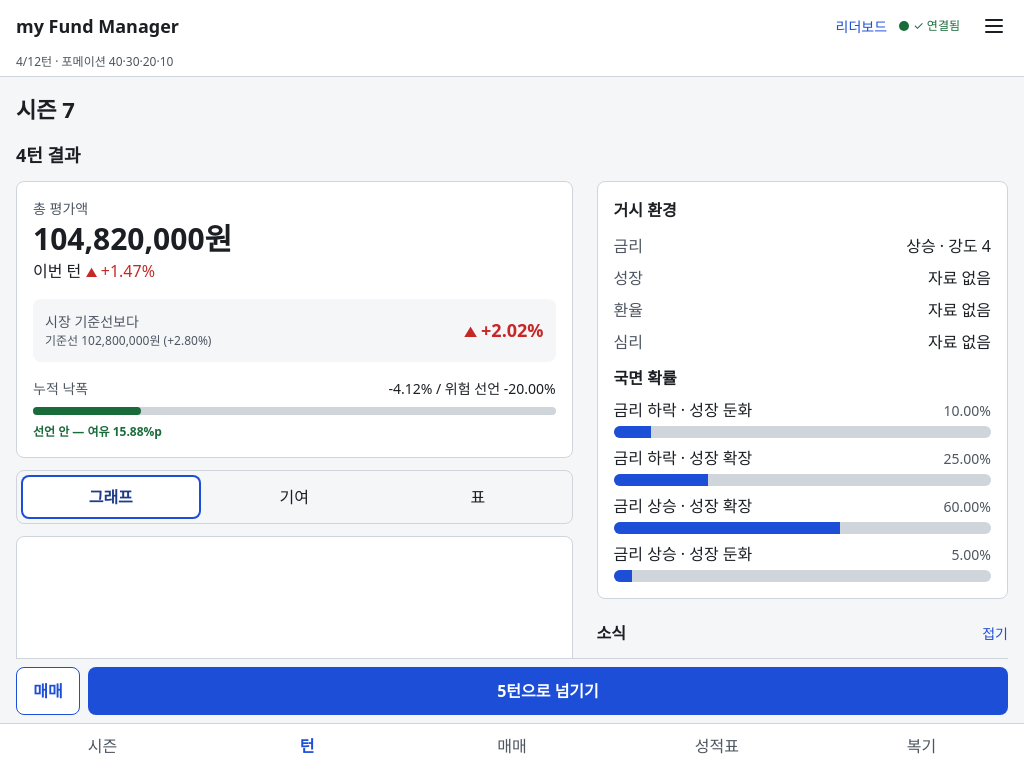
it: macro panel on turn screens › shows the next turn panel after an advance
The image size is (1024, 768).
Expected: the text "상승 · 강도 4" is shown, top-left (906, 234), bottom-right (991, 258)
Click the button "5턴으로 넘기기": (548, 691) top-left (88, 667), bottom-right (1008, 715)
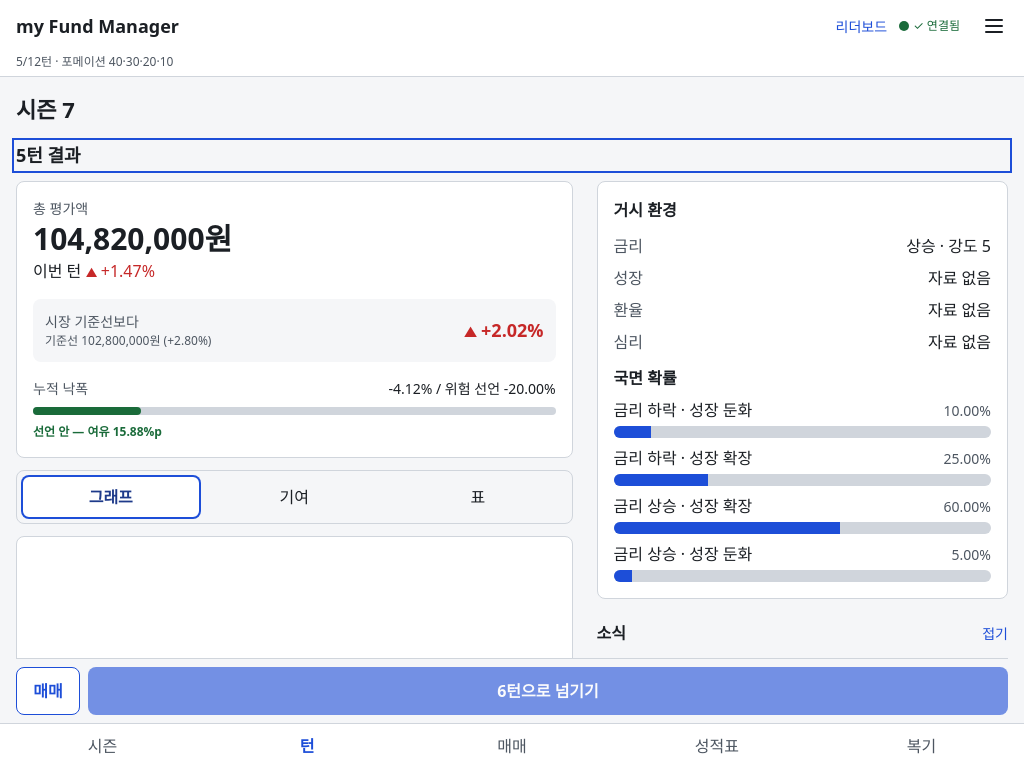
Result: the text "상승 · 강도 5" is shown at top-left (906, 234), bottom-right (991, 258)
Result: the text "상승 · 강도 4" is gone
